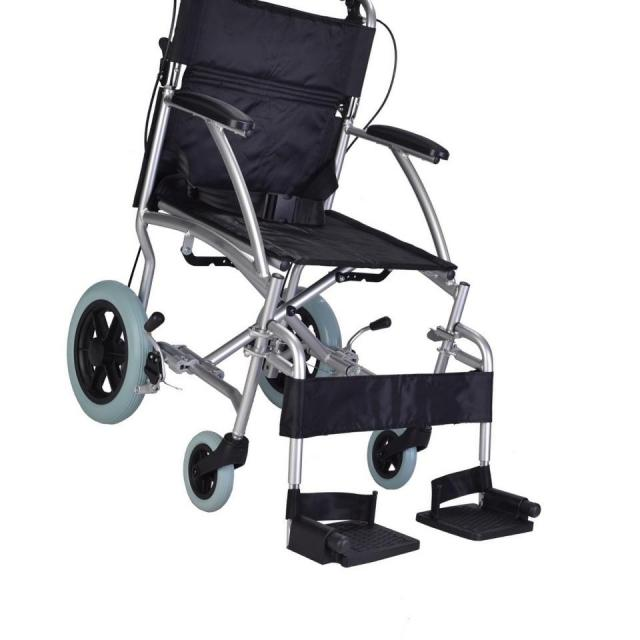wheelchair: (62, 0, 544, 573)
